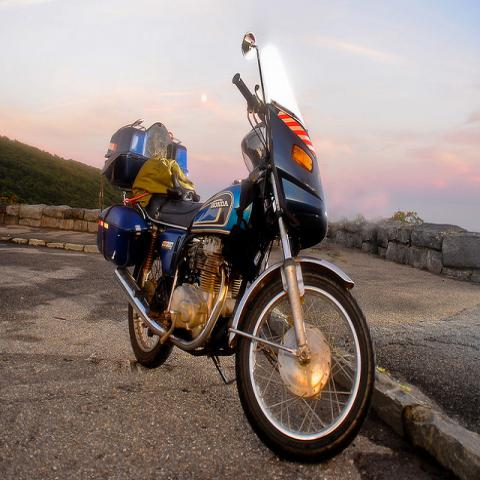motorcycle: (96, 28, 379, 469)
